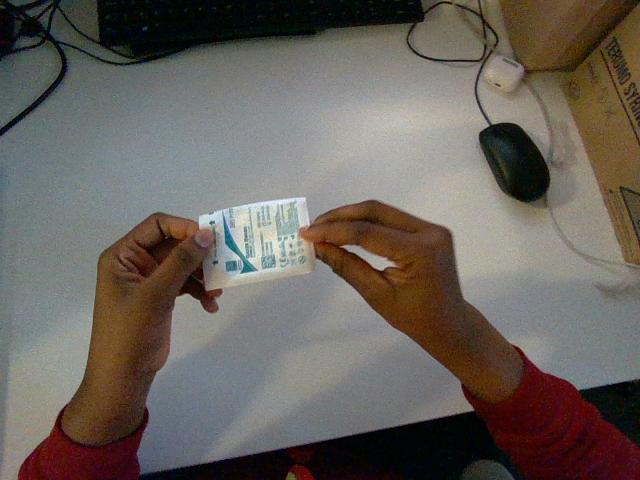gauze: (199, 198, 315, 290)
